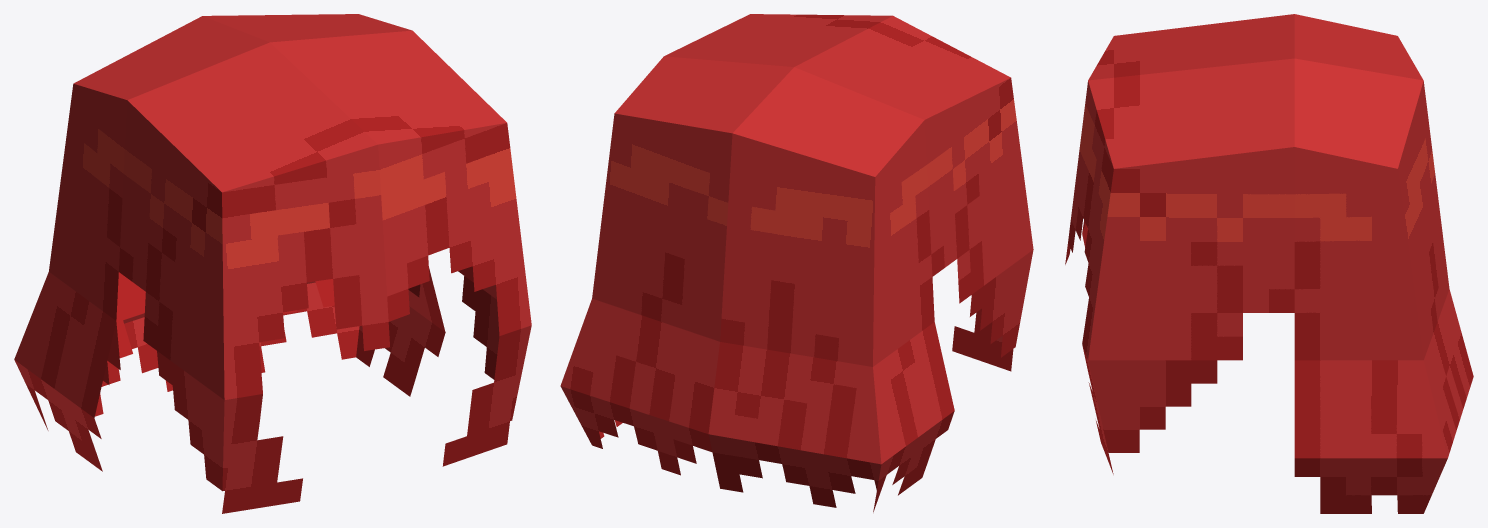
Rendered from hair_1.fbx.
The picture shows the model from 3 angles, left to right: view 1: azimuth 30°, elevation 25°; view 2: azimuth 150°, elevation 25°; view 3: azimuth 270°, elevation 25°; orthographic projection. The views are drawn at different scales.
Parts seen in each view (by area): view 1: hair_1_mesh; view 2: hair_1_mesh; view 3: hair_1_mesh.
Boxes of the visible parts, x1,y1,x2,y2 form: hair_1_mesh: (14,14,531,513); hair_1_mesh: (560,14,1033,512); hair_1_mesh: (1065,14,1473,513).
Size of the model in its own units: 50 by 54.69 by 53.12.
1 material, 1 textured.
